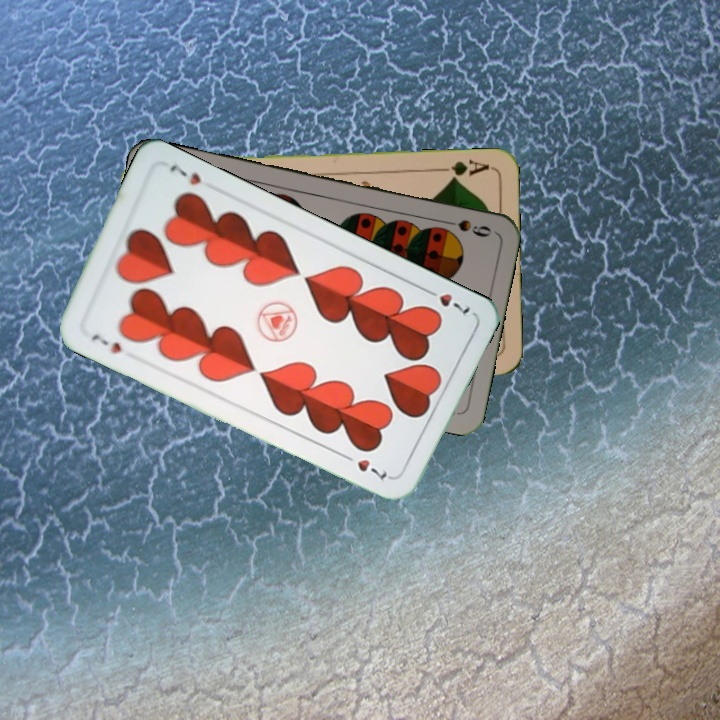GA: (434, 155, 492, 183)
H7: (420, 284, 473, 318), (88, 329, 125, 357)
S9: (436, 215, 494, 240)
